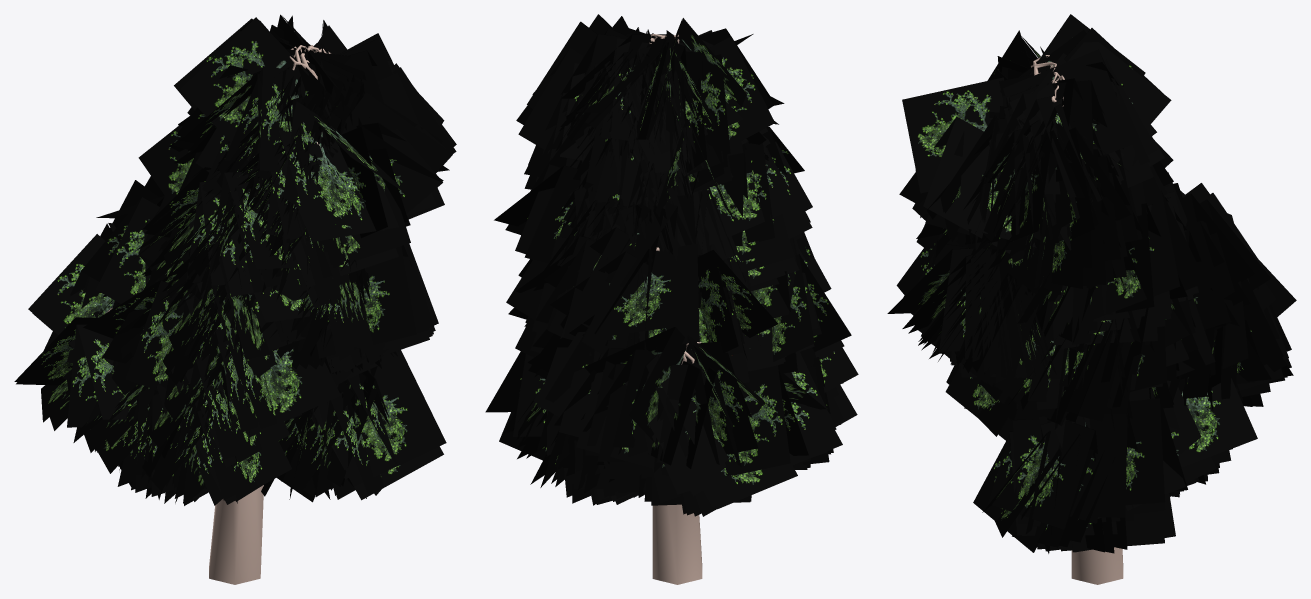
File: arbre5.glb
The picture shows the model from 3 angles, left to right: view 1: azimuth 30°, elevation 25°; view 2: azimuth 150°, elevation 25°; view 3: azimuth 270°, elevation 25°; orthographic projection. The views are drawn at different scales.
Bounding box in the file's own units: 6.32 × 9.77 × 6.45.
Materials: 2 (1 with a texture image).
